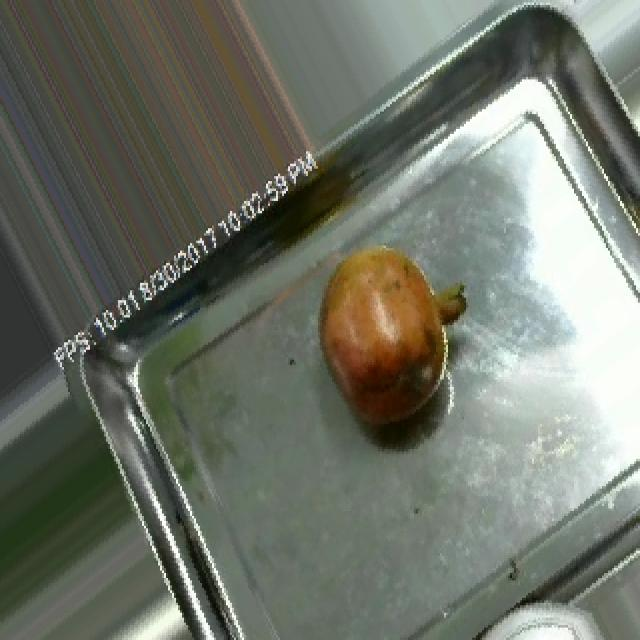fruit: (298, 223, 492, 454)
